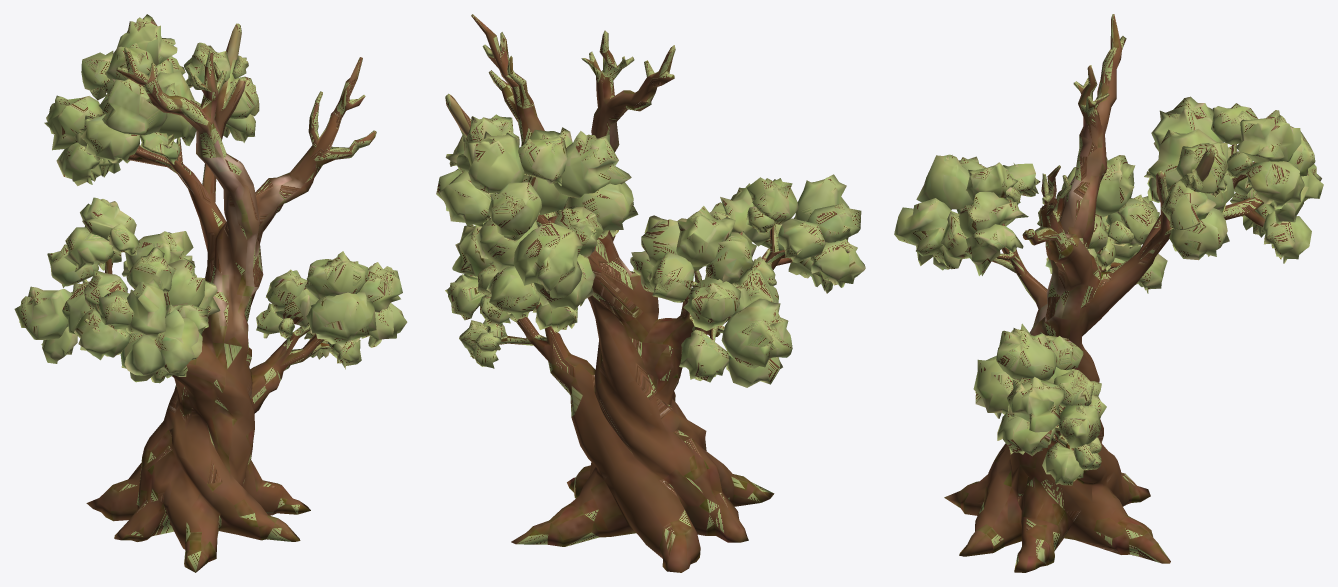
File: tree-6.glb
3 renders of one model, left to right at view 1: azimuth 30°, elevation 25°; view 2: azimuth 150°, elevation 25°; view 3: azimuth 270°, elevation 25°, orthographic. The views are drawn at different scales.
Size of the model in its own units: 0.7769 by 0.9995 by 0.7925.
Materials: 1 (1 with a texture image).
